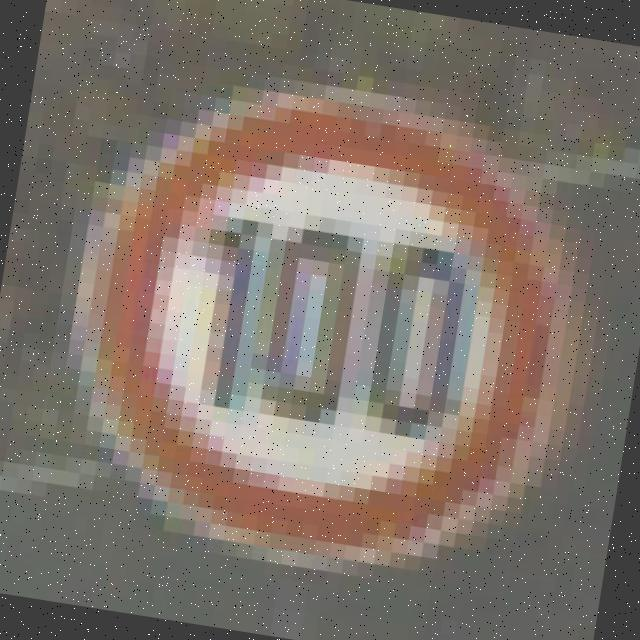Ograniczenie predkosci do 100: (54, 68, 596, 596)
